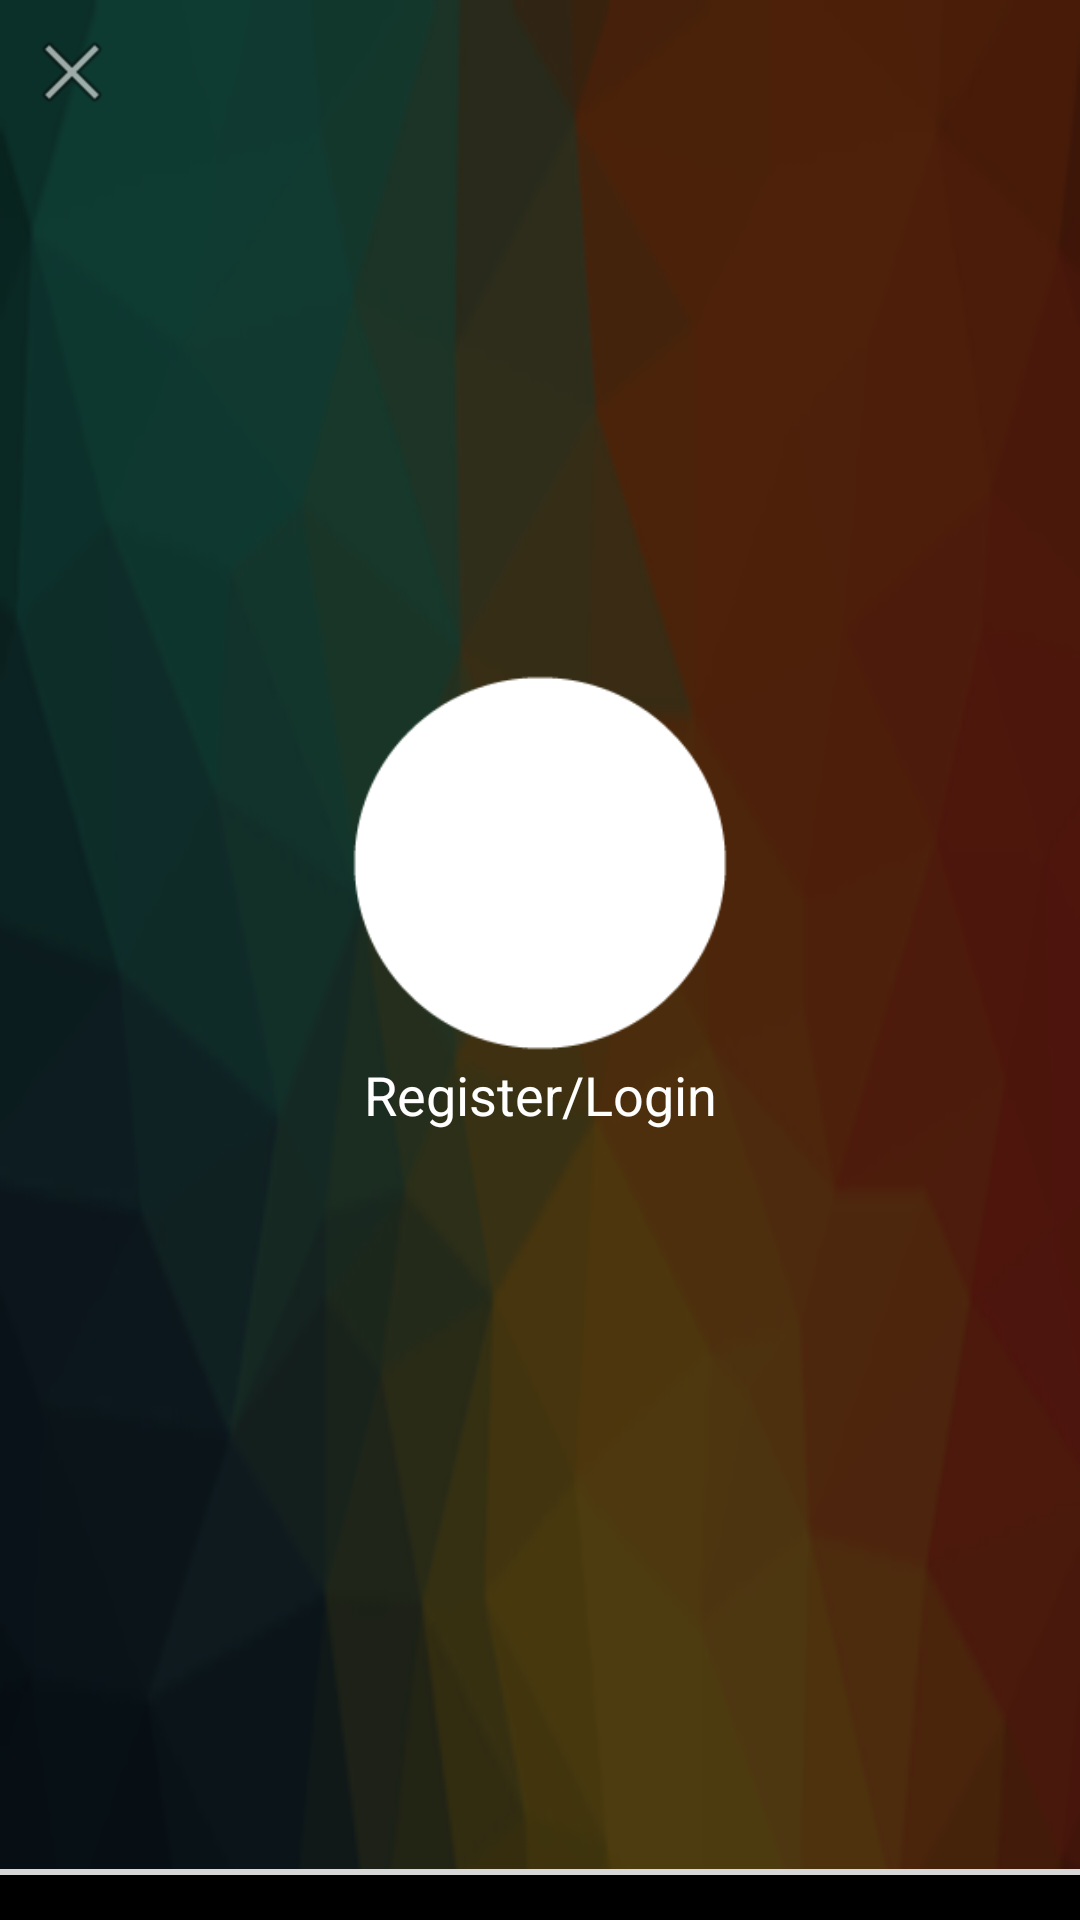

Screen size 1080 × 1920. Icon name, then its box in pixels as (x1, y1, x2, y2):
close clear cancel: (0, 0, 102, 144)
